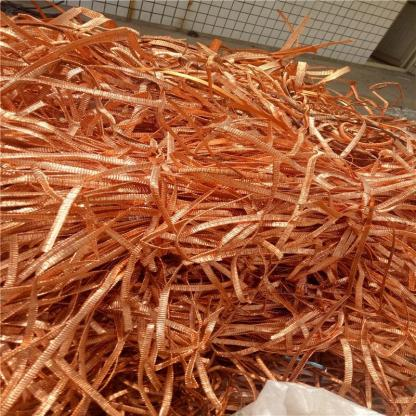wires: (0, 3, 415, 415)
